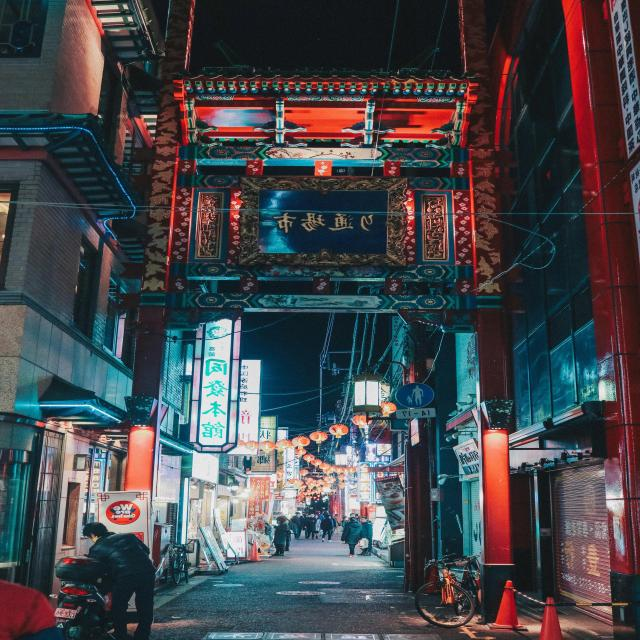adult: (82, 521, 158, 639), (341, 517, 365, 557), (269, 516, 291, 557), (357, 516, 373, 556)
